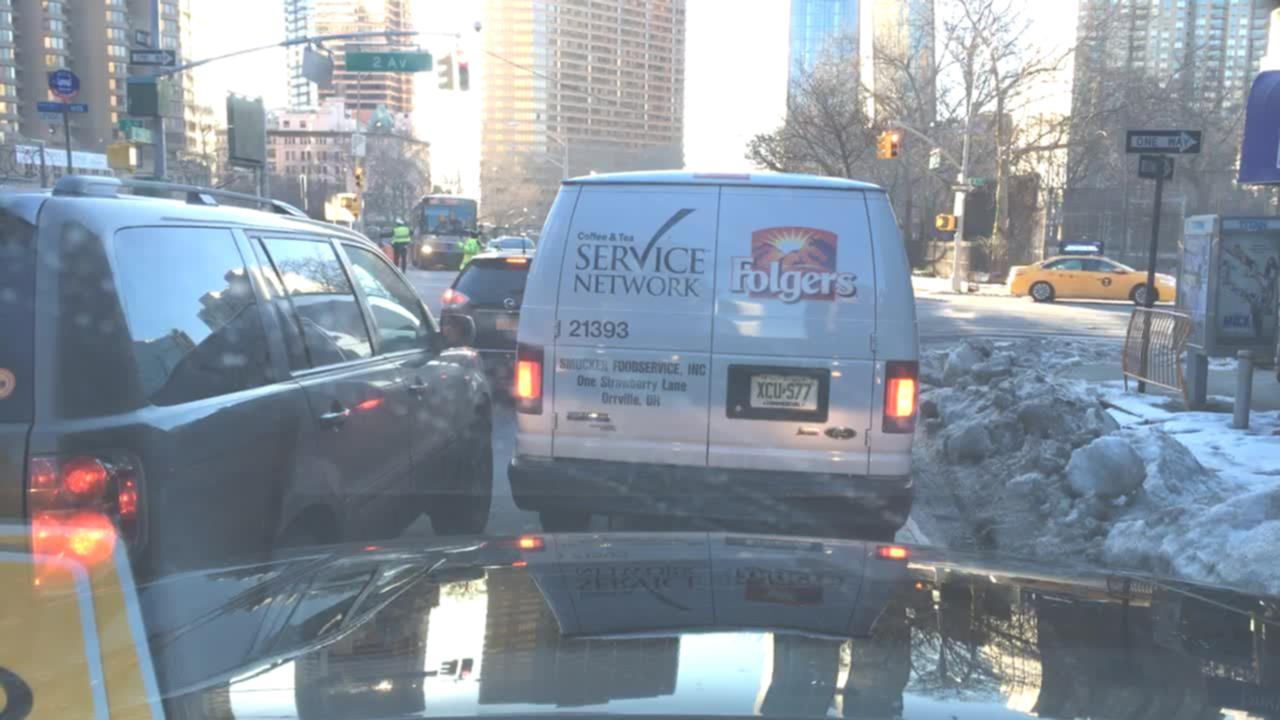ford: (820, 420, 861, 451)
